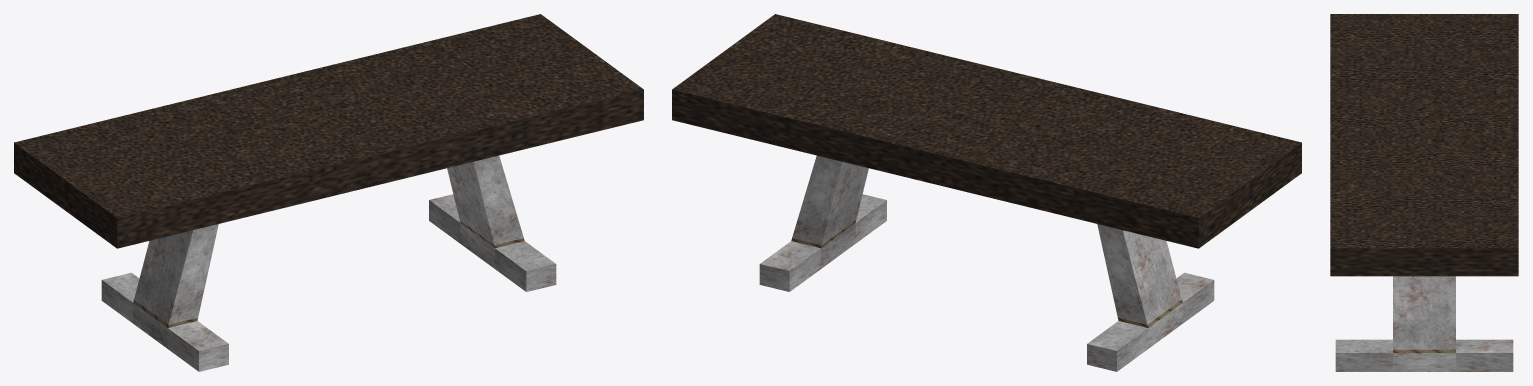
Rendered from bench.fbx.
3 renders of one model, left to right at view 1: azimuth 30°, elevation 25°; view 2: azimuth 150°, elevation 25°; view 3: azimuth 270°, elevation 25°, orthographic. The views are drawn at different scales.
Parts seen in each view (by area): view 1: bench; view 2: bench; view 3: bench.
Boxes of the visible parts, bbox=[...] form: bench: bbox=[14, 14, 643, 371]; bench: bbox=[672, 14, 1301, 371]; bench: bbox=[1330, 14, 1518, 371].
Bounding box in the file's own units: 132 × 42.34 × 44.81.
1 material, 1 textured.
